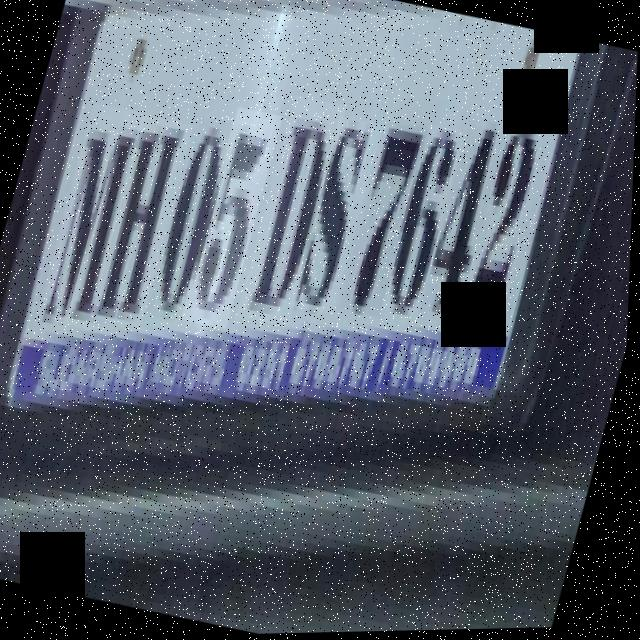0: (148, 117, 240, 324)
4: (419, 126, 508, 334)
5: (183, 107, 284, 331)
7: (341, 123, 430, 319)
D: (238, 95, 347, 329)
H: (91, 115, 194, 328)
M: (38, 102, 146, 331)
S: (291, 117, 384, 317), (384, 126, 467, 318)
